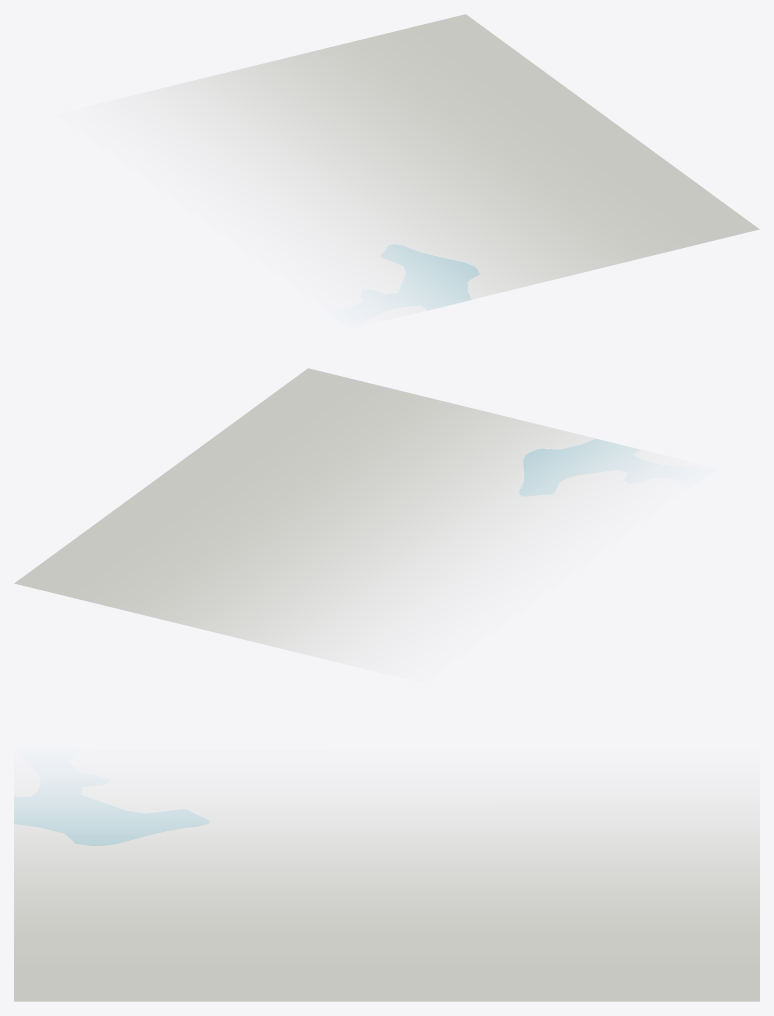
3 renders of one model, top to bottom at view 1: azimuth 30°, elevation 25°; view 2: azimuth 150°, elevation 25°; view 3: azimuth 270°, elevation 25°, orthographic. The views are drawn at different scales.
Visible parts, largest first — view 1: city; view 2: city; view 3: city.
Boxes of the visible parts, <box> form: city: <box>117,14,759,314</box>; city: <box>14,368,656,668</box>; city: <box>14,780,759,1001</box>.
Size of the model in its own units: 443 by 0.18 by 500.
